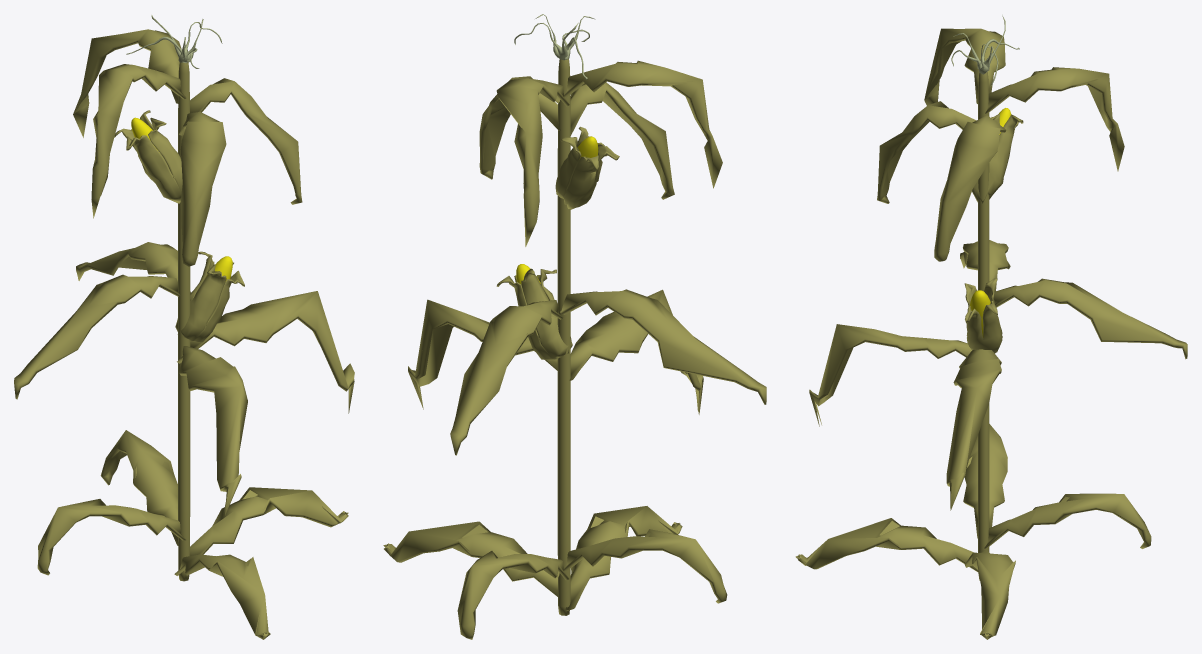
Rendered from cornstalker.fbx.
The picture shows the model from 3 angles, left to right: view 1: azimuth 30°, elevation 25°; view 2: azimuth 150°, elevation 25°; view 3: azimuth 270°, elevation 25°; orthographic projection. The views are drawn at different scales.
Visible parts, largest first — view 1: Plane.002; view 2: Plane.002; view 3: Plane.002.
Part boxes in pixels (x1,y1,x2,y2): Plane.002: (14, 15, 354, 639); Plane.002: (383, 14, 766, 639); Plane.002: (795, 15, 1187, 639).
Bounding box in the file's own units: 211 × 329 × 211.
